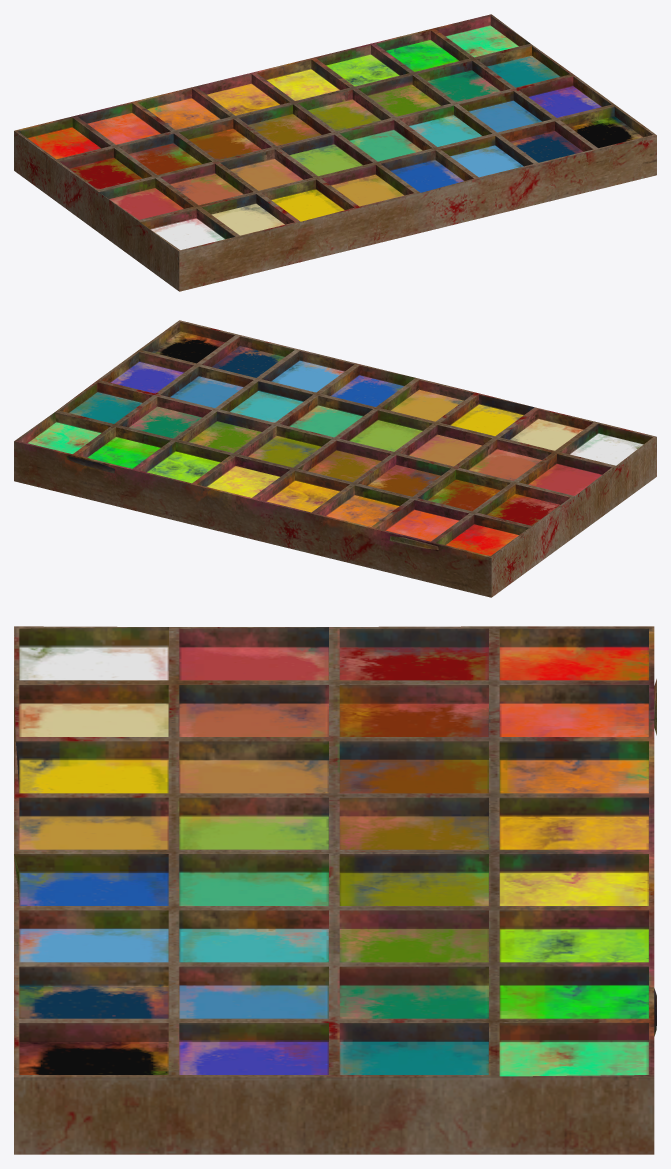
Rendered from SM_Paint_Box_Paint_Box.glb.
3 views of the same model, one above another, from view 1: azimuth 30°, elevation 25°; view 2: azimuth 150°, elevation 25°; view 3: azimuth 270°, elevation 25° (orthographic). The views are drawn at different scales.
Parts seen in each view (by area): view 1: SM_Paint_Box_Paint_Box; view 2: SM_Paint_Box_Paint_Box; view 3: SM_Paint_Box_Paint_Box.
Boxes of the visible parts, bbox=[...] form: SM_Paint_Box_Paint_Box: bbox=[14, 14, 656, 291]; SM_Paint_Box_Paint_Box: bbox=[14, 320, 656, 597]; SM_Paint_Box_Paint_Box: bbox=[14, 626, 656, 1154].
Size of the model in its own units: 0.5 by 0.04 by 0.3013.
Materials: 1 (1 with a texture image).
